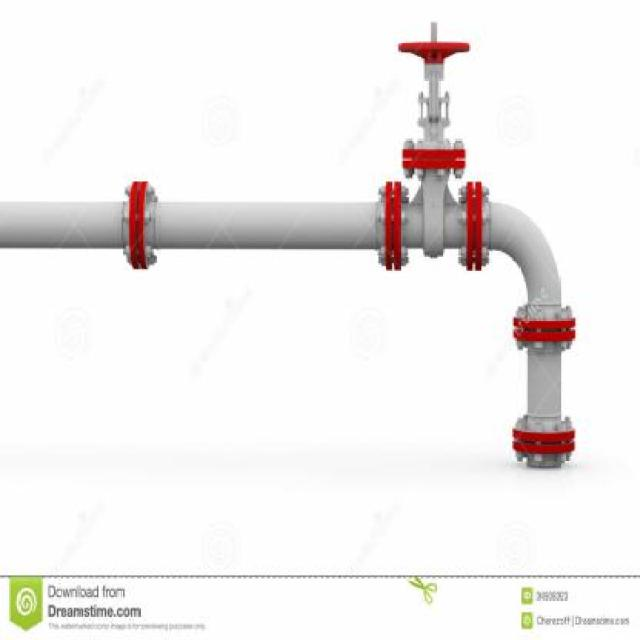gas: (0, 194, 562, 295), (458, 185, 580, 470)
